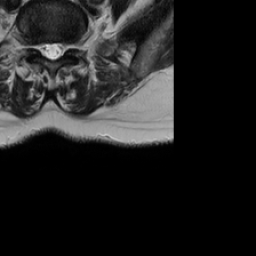CCS_normal: (49, 33, 57, 66)
LFS_stenosis: (65, 35, 74, 58)
LLS_normal: (57, 33, 65, 61)
RFS_severe_stenosis: (28, 36, 39, 55)
RLS_normal: (39, 35, 49, 61)
